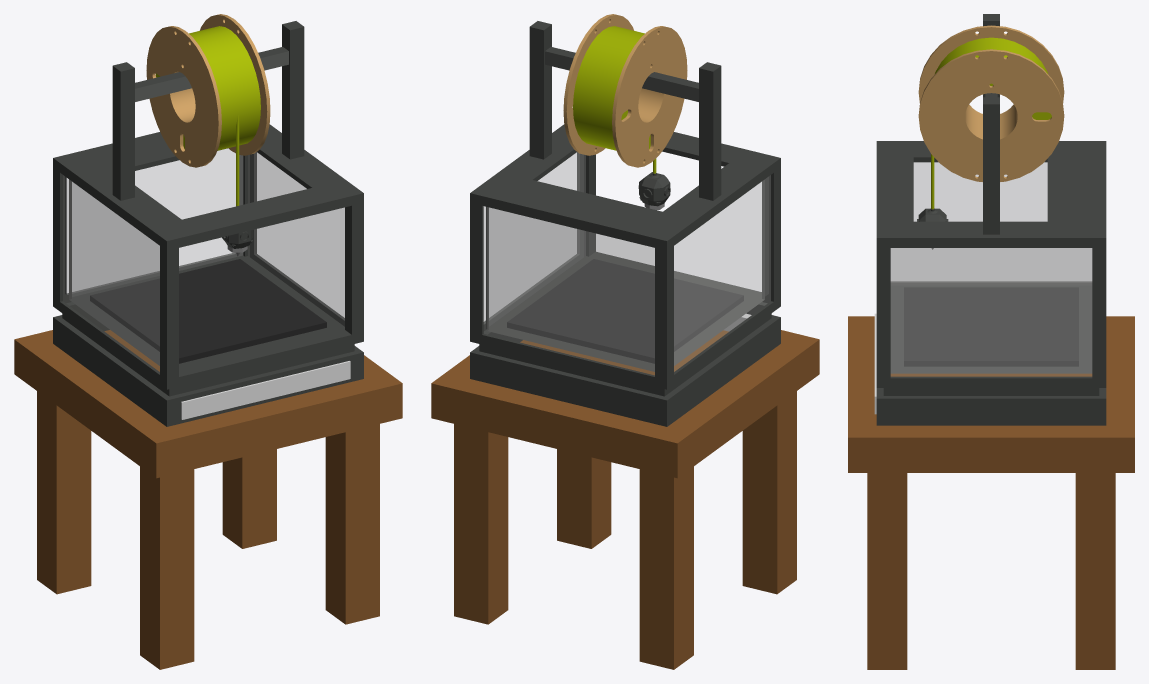
The model's file is PrinterYellowPLA.glb.
The picture shows the model from 3 angles, left to right: view 1: azimuth 30°, elevation 25°; view 2: azimuth 150°, elevation 25°; view 3: azimuth 270°, elevation 25°; orthographic projection.
Visible parts, largest first — view 1: Printer, Table Legs, Table, Roll, PLA Holder, PLA Blue, Progress Bar, Nozzle + Head + PLA; view 2: Printer, Table Legs, Table, Roll, PLA Holder, PLA Blue, Nozzle + Head + PLA; view 3: Printer, Table, Table Legs, Roll, PLA Holder, PLA Blue, Nozzle + Head + PLA.
Boxes of the visible parts, x1=… form: Printer: x1=53, y1=124, x2=363, y2=426; Table Legs: x1=37, y1=391, x2=379, y2=669; Table: x1=14, y1=330, x2=402, y2=478; Roll: x1=146, y1=14, x2=270, y2=167; PLA Holder: x1=112, y1=21, x2=304, y2=200; PLA Blue: x1=156, y1=26, x2=260, y2=150; Progress Bar: x1=181, y1=361, x2=350, y2=419; Nozzle + Head + PLA: x1=222, y1=115, x2=253, y2=256; Printer: x1=470, y1=124, x2=780, y2=426; Table Legs: x1=454, y1=391, x2=796, y2=669; Table: x1=431, y1=330, x2=819, y2=478; Roll: x1=563, y1=14, x2=687, y2=167; PLA Holder: x1=529, y1=21, x2=721, y2=200; PLA Blue: x1=573, y1=26, x2=650, y2=150; Nozzle + Head + PLA: x1=638, y1=158, x2=670, y2=210; Printer: x1=876, y1=141, x2=1106, y2=425; Table: x1=848, y1=316, x2=1134, y2=472; Table Legs: x1=867, y1=473, x2=1115, y2=669; Roll: x1=918, y1=25, x2=1064, y2=181; PLA Holder: x1=983, y1=14, x2=999, y2=234; PLA Blue: x1=935, y1=37, x2=1051, y2=119; Nozzle + Head + PLA: x1=917, y1=154, x2=948, y2=249.
Size of the model in its own units: 2.5 by 5.55 by 2.5.
Materials: 9 (1 with a texture image).
